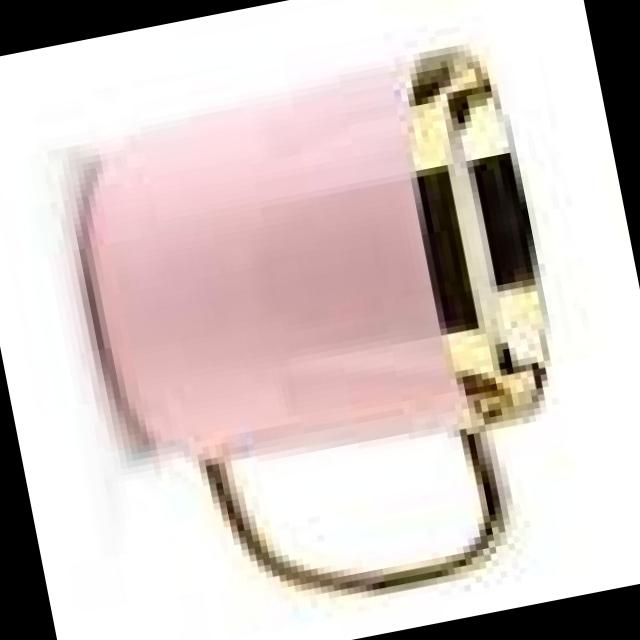Coffee Mug: (48, 33, 593, 635)
